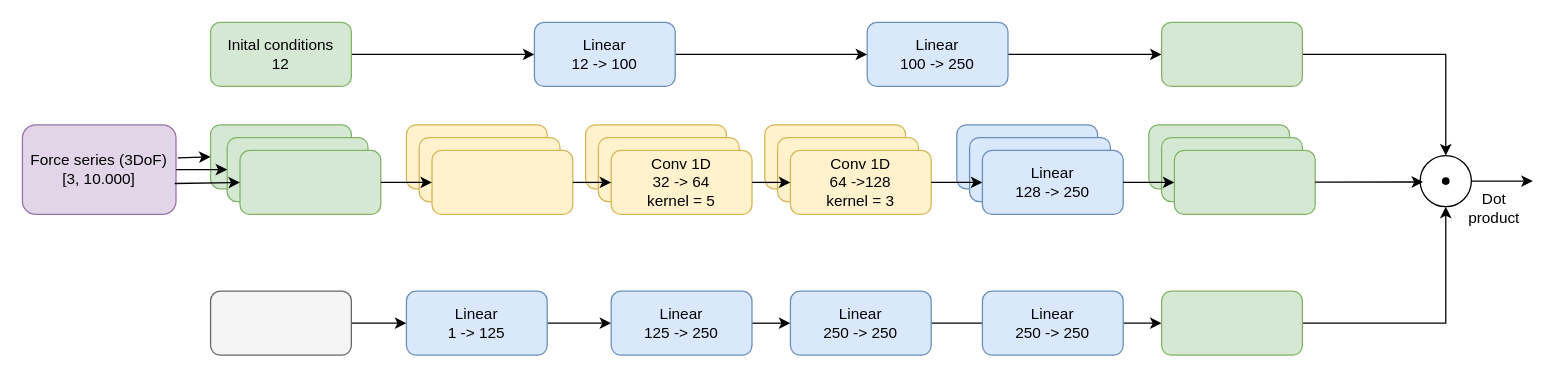
Some shapes in this 1565 by 378 pixel diagram are drawn without their labels. The shapes that lost their labels are listed below. From the top down, each one's centre as x and y in pixels, then its label:
At [1231,53]: "b vector 250".
At [310,181]: "Sampled Force series 1000".
At [502,181]: "Conv 1D 1000 -> 32 kernel = 7".
At [1244,181]: "b vectors 250".
At [280,322]: "Time sample 1, scalar".
At [1231,322]: "t vector 250".
